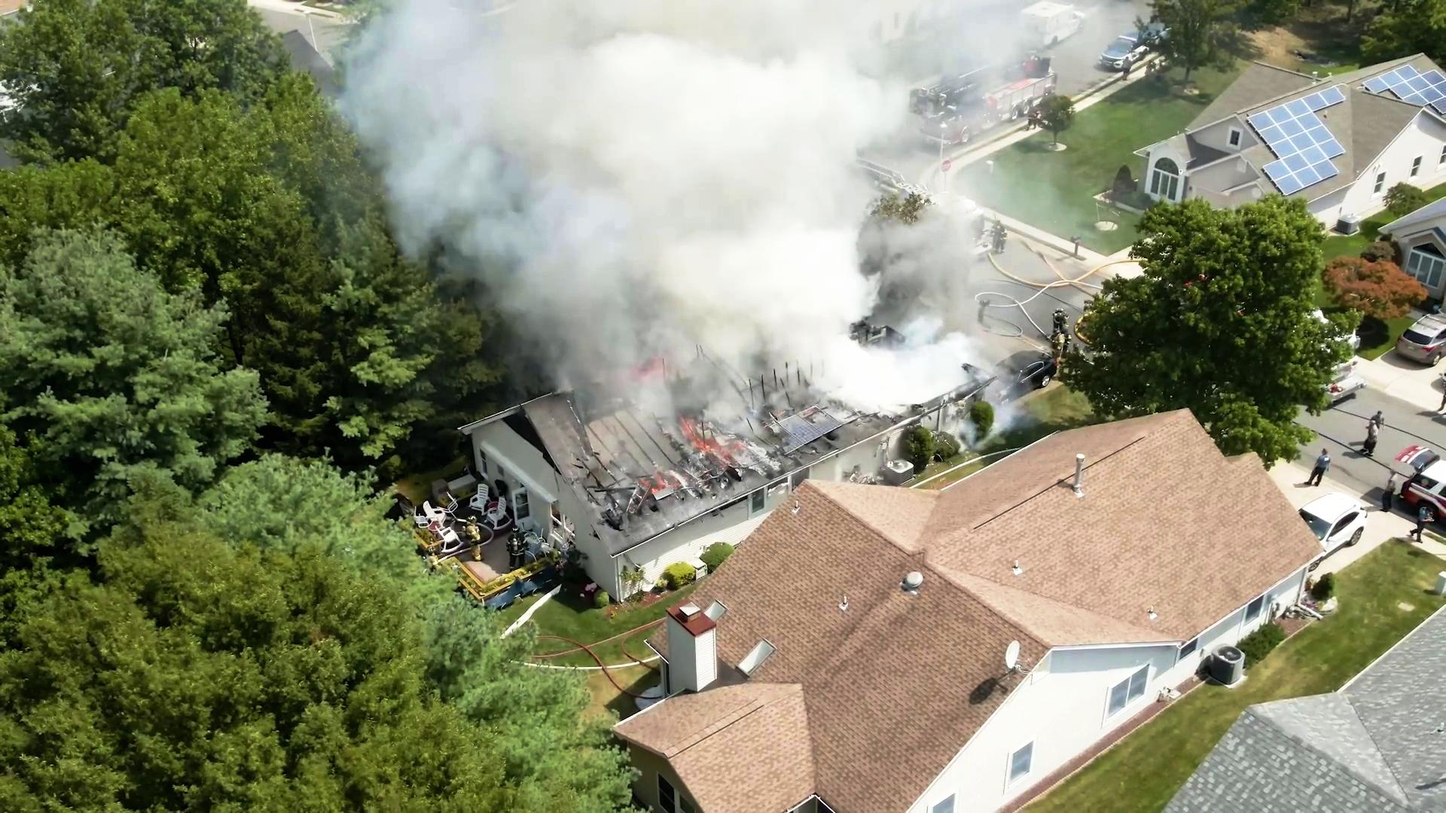smoke: (540, 27, 976, 422), (360, 1, 982, 146), (460, 5, 684, 310), (664, 223, 973, 422)
